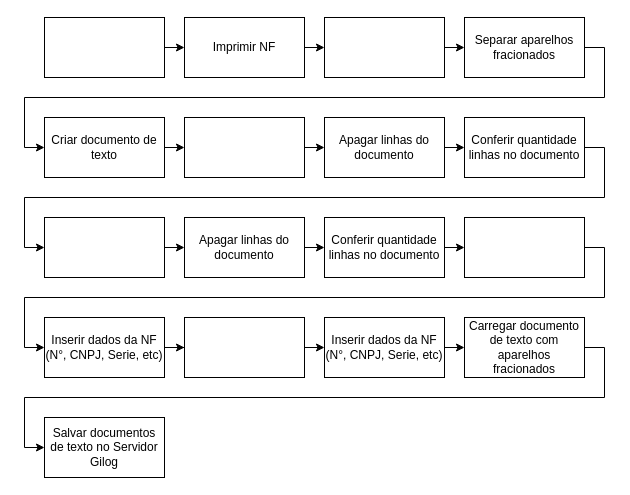
This 630x495 diagram has some shape labels left out. The shapes that lost their labels are listed below. From the top down, each one's centre as x and y in pixels, then its label:
At [104,47]: "Conferir se há NF no Monitor ou Receber um aviso da RED".
At [384,47]: "Separar CM".
At [244,147]: "Bipar CM no documento criado".
At [104,247]: "Bipar Aparelhos fracionados".
At [524,247]: "Abrir ERP".
At [244,347]: "Carregar documento de texto com CM".
